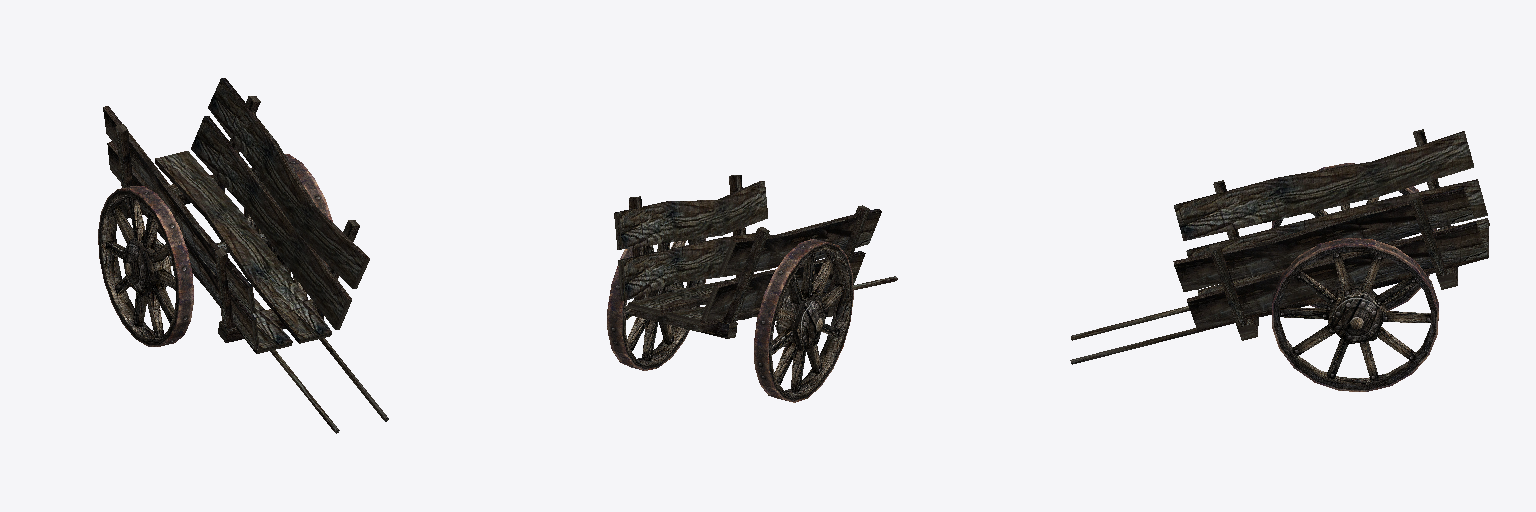
3 renders of one model, left to right at view 1: azimuth 30°, elevation 25°; view 2: azimuth 150°, elevation 25°; view 3: azimuth 270°, elevation 25°, orthographic.
Size of the model in its own units: 2.51 by 2.52 by 4.93.
2 materials, 2 textured.